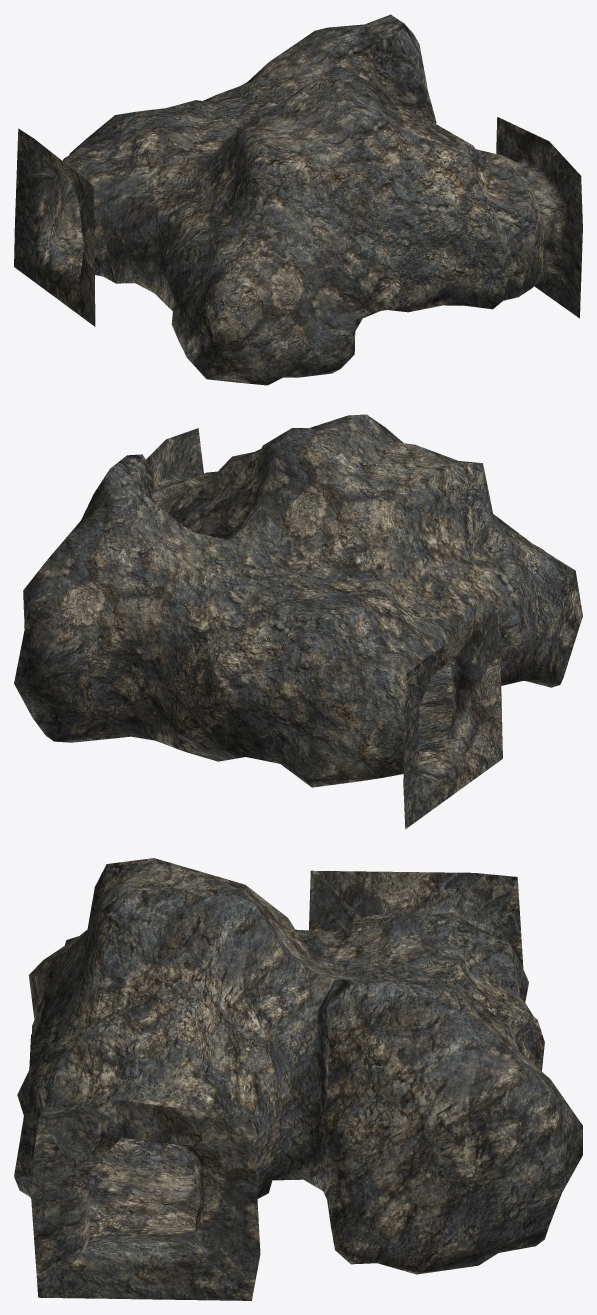
The model's file is Module11_LOD1.fbx.
3 views of the same model, one above another, from view 1: azimuth 30°, elevation 25°; view 2: azimuth 150°, elevation 25°; view 3: azimuth 270°, elevation 25° (orthographic). The views are drawn at different scales.
Parts seen in each view (by area): view 1: cave_el11_1800_Group40124; view 2: cave_el11_1800_Group40124; view 3: cave_el11_1800_Group40124.
Part boxes in pixels (box(x1,y1,x2,y2)): cave_el11_1800_Group40124: box(14, 14, 582, 385); cave_el11_1800_Group40124: box(14, 414, 582, 829); cave_el11_1800_Group40124: box(14, 858, 582, 1300).
Size of the model in its own units: 20.66 by 12 by 20.56.
